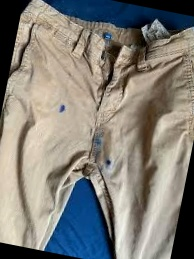ink: (92, 130, 104, 146), (60, 105, 66, 113), (106, 159, 111, 164)
